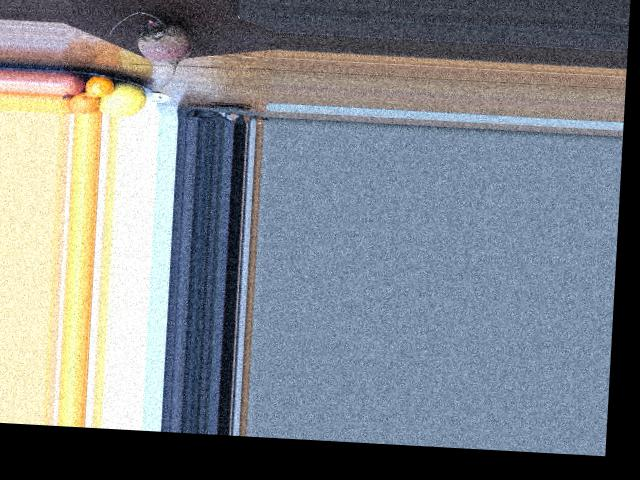beet: (107, 10, 194, 88)
